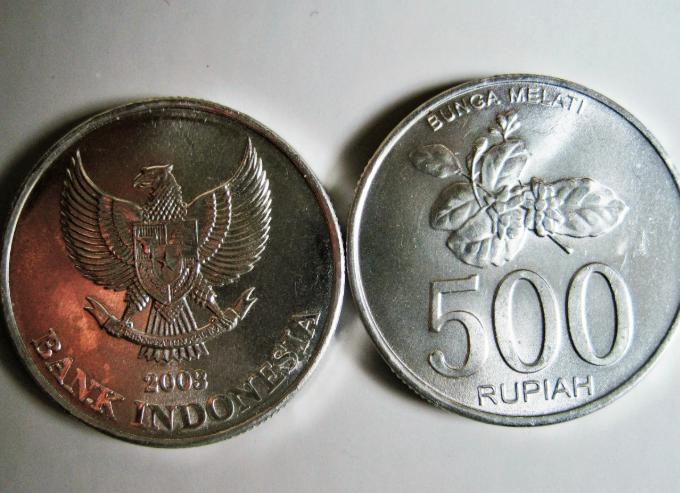coin_500_e2003: (0, 89, 346, 451), (348, 70, 680, 428)
